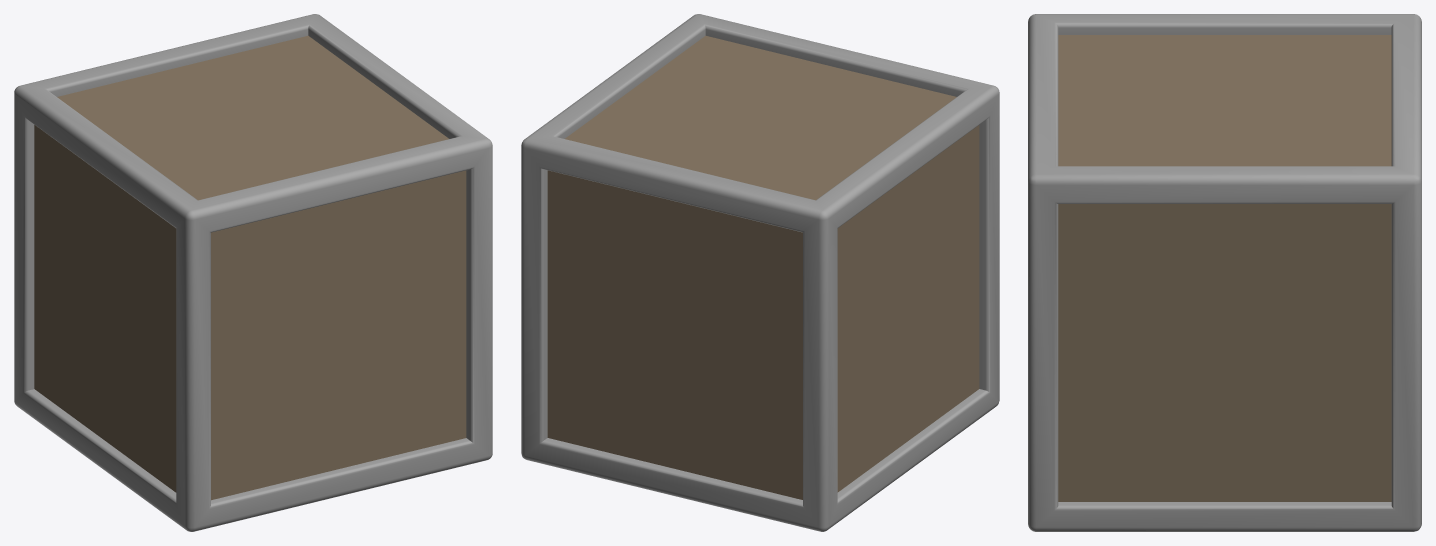
Rendered from crate.fbx.
3 views of the same model, side by side, from view 1: azimuth 30°, elevation 25°; view 2: azimuth 150°, elevation 25°; view 3: azimuth 270°, elevation 25° (orthographic). The views are drawn at different scales.
Visible parts, largest first — view 1: Crate; view 2: Crate; view 3: Crate.
Boxes of the visible parts, x1=… form: Crate: x1=14, y1=14, x2=492, y2=531; Crate: x1=521, y1=14, x2=999, y2=531; Crate: x1=1028, y1=14, x2=1421, y2=531.
Bounding box in the file's own units: 100 × 100 × 100.
